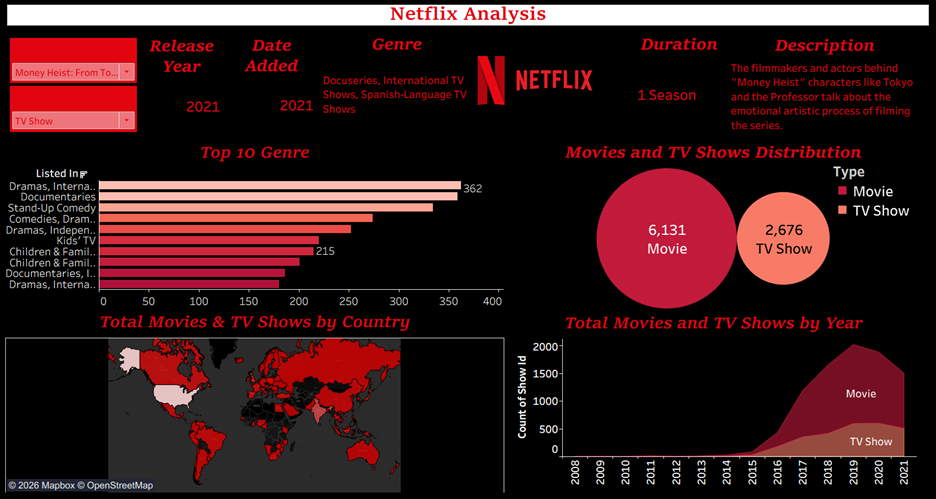

The page's visual inventory and layout, read from the dashboard file:
{"tool":"tableau","page":{"name":"Netflix Analysis","canvas":[1000,1000],"units":"permille","ordinal":0},"visuals":[{"type":"title","box":[5,9.3,990,51.2]},{"type":"worksheet","title":"Genre","mark":"Text","box":[342.5,73.9,162.5,187.6]},{"type":"image","param":"Image/netflix_logo1.png","box":[470.8,73.9,200.8,180.2]},{"type":"worksheet","title":"Duration","mark":"Text","box":[678.3,73.9,94.2,187.6]},{"type":"worksheet","title":"Date Added","mark":"Text","box":[242.5,76.8,95,183.2]},{"type":"worksheet","title":"Description","mark":"Text","box":[778.3,76.8,205.8,192]},{"type":"worksheet","title":"Release Year","mark":"Text","box":[150,78.3,87.5,184.6]},{"type":"filter","title":"Release Year","param":"[federated.01uxeee0f1cpzg1fzl4jj07mvnco].[none:title:nk]","box":[10.8,79.8,135.8,90.1]},{"type":"filter","title":"Release Year","param":"[federated.01uxeee0f1cpzg1fzl4jj07mvnco].[none:type:nk]","box":[10.8,175.8,135.8,91.6]},{"type":"worksheet","title":"Top 10 Genre","mark":"Automatic","rows":["listed_in"],"cols":["show_id"],"box":[5.8,289.5,532.5,327.9]},{"type":"worksheet","title":"Movies and TV Shows Distribution","mark":"Circle","box":[544.2,289.5,435,329.4]},{"type":"legend","title":"Movies and TV Shows Distribution","param":"[federated.01uxeee0f1cpzg1fzl4jj07mvnco].[none:type:nk]","box":[890,325.6,100,119.8]},{"type":"worksheet","title":"Total Movies & TV Shows by Country","mark":"Multipolygon","box":[5.8,626.3,533.3,358.9]},{"type":"worksheet","title":"Total Movies and TV Shows by Year","mark":"Area","rows":["show_id"],"cols":["date_added"],"box":[545,629.2,434.2,353]}]}

Visuals, with their boxes on the dashboard's canvas, which has no fixed pixel size, in thousandths of its width and height (x1, y1, x2, y2). These are canvas units, not pixel positions in the 936x499 screenshot, which may show the page scaled, cropped or inside an application window:
title: <box>5,9,995,60</box>
"Genre" worksheet (Text marks): <box>342,74,505,262</box>
image: <box>471,74,672,254</box>
"Duration" worksheet (Text marks): <box>678,74,772,262</box>
"Date Added" worksheet (Text marks): <box>242,77,338,260</box>
"Description" worksheet (Text marks): <box>778,77,984,269</box>
"Release Year" worksheet (Text marks): <box>150,78,238,263</box>
"Release Year" filter: <box>11,80,147,170</box>
"Release Year" filter: <box>11,176,147,267</box>
"Top 10 Genre" worksheet: <box>6,290,538,617</box>
"Movies and TV Shows Distribution" worksheet (Circle marks): <box>544,290,979,619</box>
"Movies and TV Shows Distribution" legend: <box>890,326,990,445</box>
"Total Movies & TV Shows by Country" worksheet (Multipolygon marks): <box>6,626,539,985</box>
"Total Movies and TV Shows by Year" worksheet (Area marks): <box>545,629,979,982</box>
